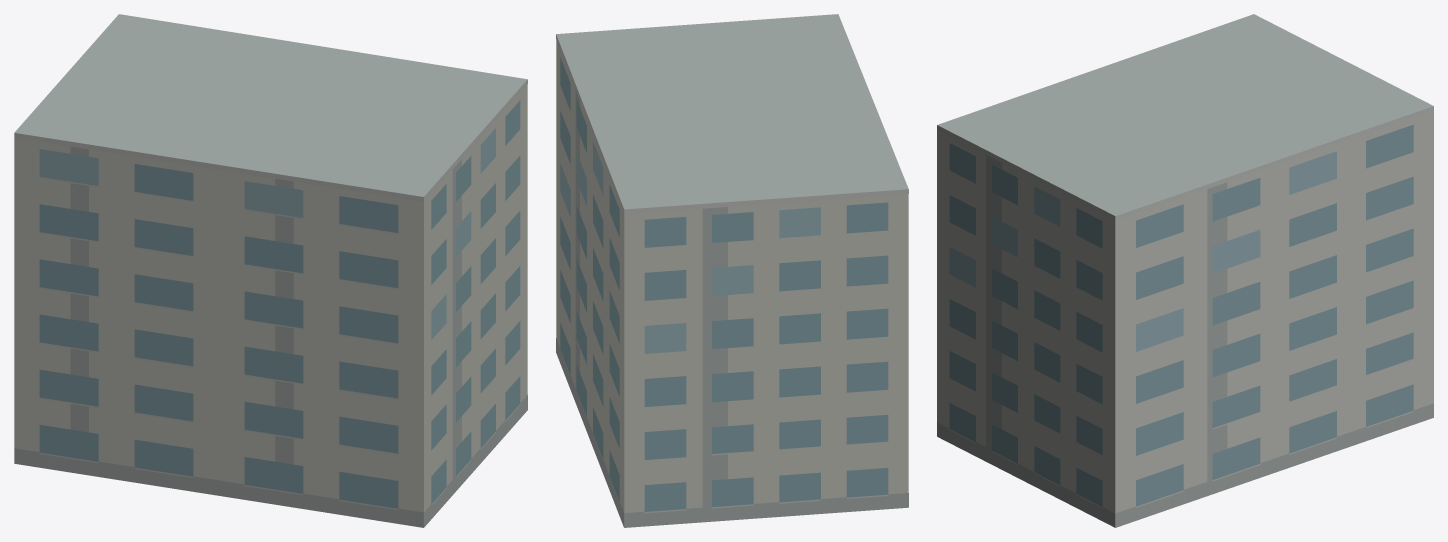
The model's file is survey-upis-32729178.glb.
3 renders of one model, left to right at view 1: azimuth 30°, elevation 25°; view 2: azimuth 150°, elevation 25°; view 3: azimuth 270°, elevation 25°, orthographic. The views are drawn at different scales.
Parts seen in each view (by area): view 1: survey-upis-32729178.tmp; view 2: survey-upis-32729178.tmp; view 3: survey-upis-32729178.tmp.
Part boxes in pixels (x1,y1,x2,y2): survey-upis-32729178.tmp: [14, 14, 527, 527]; survey-upis-32729178.tmp: [556, 14, 908, 527]; survey-upis-32729178.tmp: [937, 14, 1433, 527].
Bounding box in the file's own units: 22.27 × 16 × 23.12.
